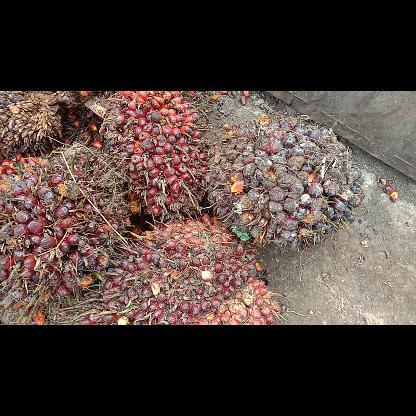Kurang masak: (202, 110, 366, 254)
TBS masak: (0, 141, 131, 325), (76, 212, 284, 324), (94, 90, 216, 226)
